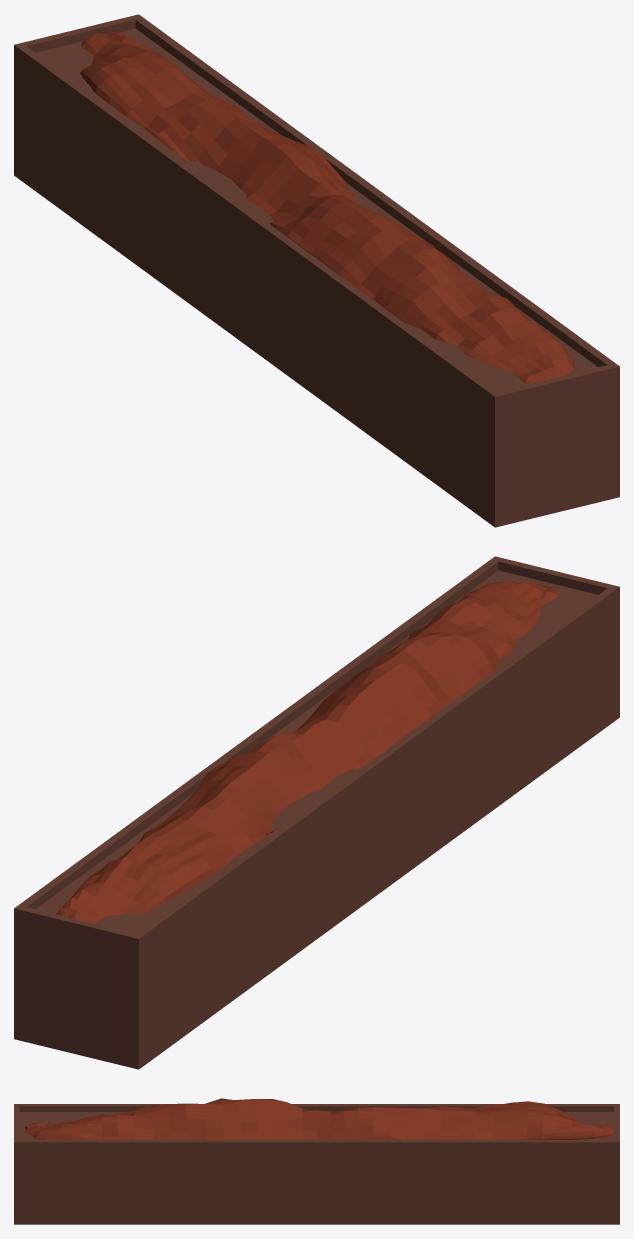
File: Farmi_Kasviurat_Seinällinen.fbx
3 views of the same model, one above another, from view 1: azimuth 30°, elevation 25°; view 2: azimuth 150°, elevation 25°; view 3: azimuth 270°, elevation 25° (orthographic). The views are drawn at different scales.
Parts seen in each view (by area): view 1: Seinällinen Ura; view 2: Seinällinen Ura; view 3: Seinällinen Ura.
Boxes of the visible parts, <box> form: Seinällinen Ura: <box>14,14,619,527</box>; Seinällinen Ura: <box>14,556,619,1069</box>; Seinällinen Ura: <box>14,1098,619,1224</box>.
Bounding box in the file's own units: 60 × 75.68 × 400.
